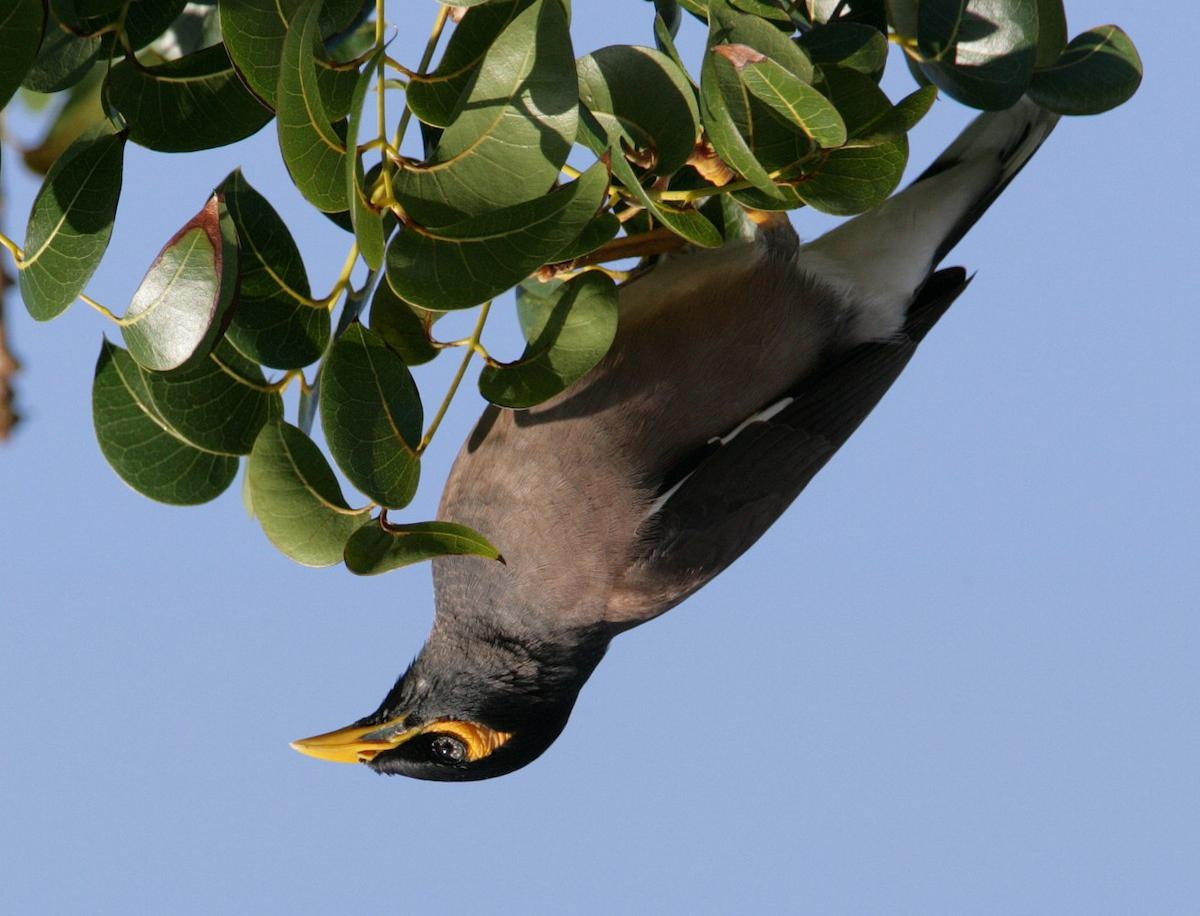myna: (294, 124, 1057, 804)
